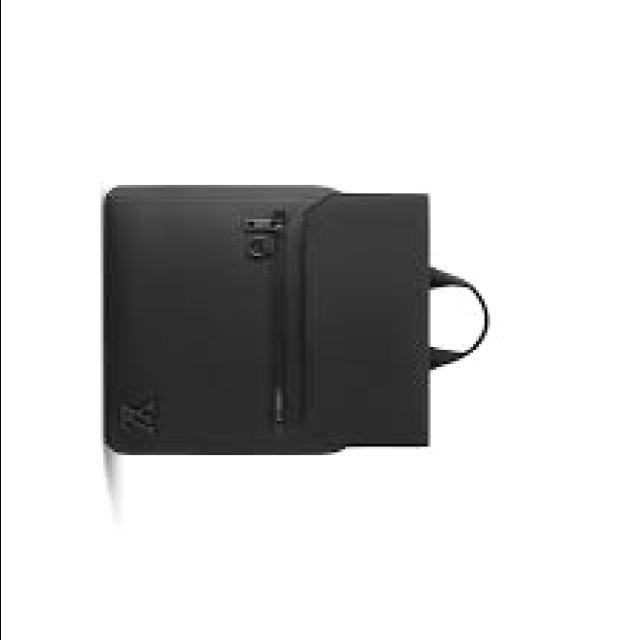backpack: (103, 183, 493, 456)
